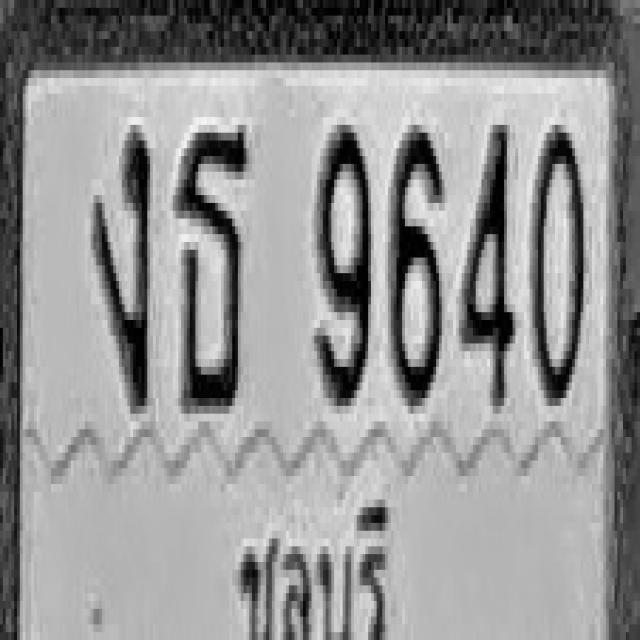0: (530, 121, 584, 402)
16NgorNgu: (92, 133, 149, 406)
33ThorThong: (176, 125, 249, 414)
4: (460, 117, 514, 406)
6: (389, 121, 444, 402)
9: (316, 121, 370, 402)
Chonburi: (230, 491, 393, 640)
